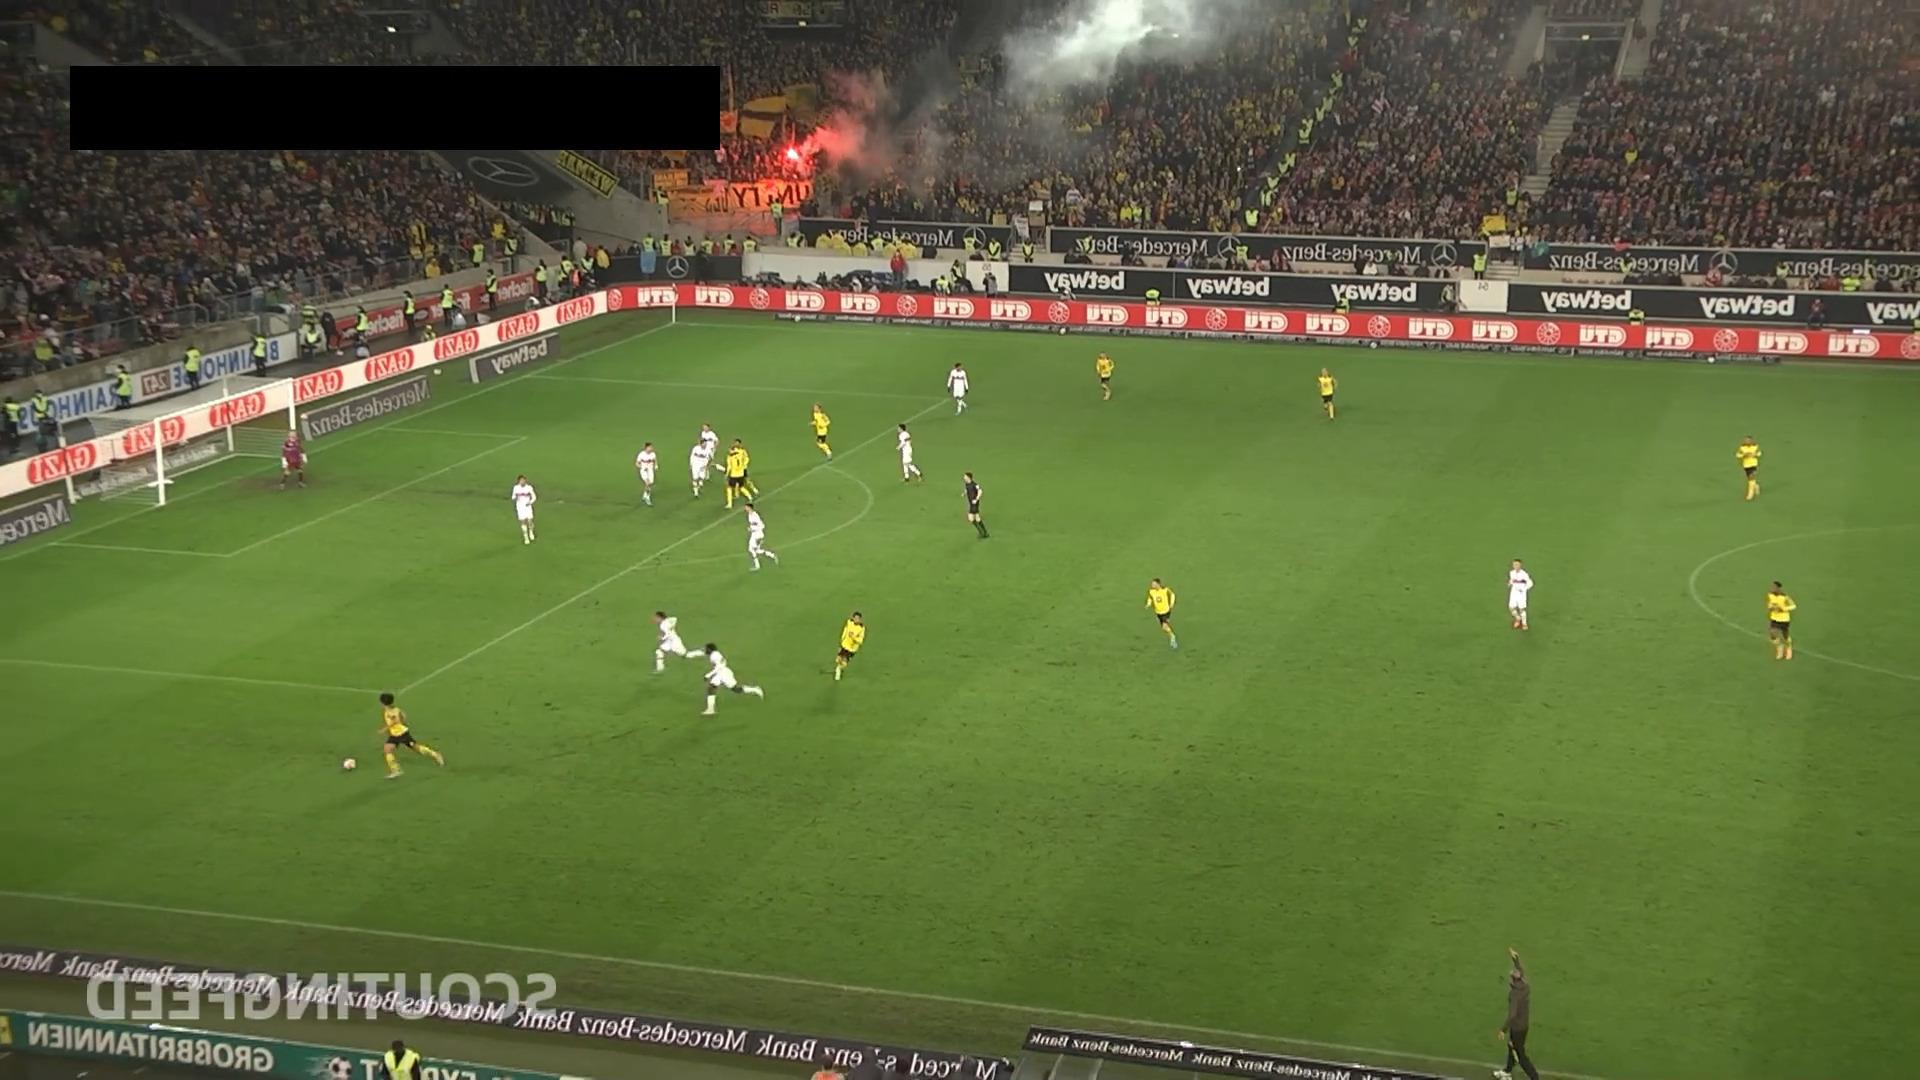ball: (343, 755, 359, 771)
keeper: (280, 430, 307, 490)
player: (376, 694, 443, 780), (700, 642, 764, 716), (651, 612, 705, 675), (1765, 579, 1796, 661), (1144, 576, 1177, 649), (745, 503, 779, 572), (832, 613, 867, 680), (1506, 557, 1534, 632), (895, 422, 925, 485), (724, 446, 753, 510), (510, 474, 536, 545), (1735, 434, 1762, 501), (732, 437, 759, 497), (807, 402, 833, 460), (688, 438, 713, 498), (635, 442, 658, 507), (945, 363, 971, 416), (700, 424, 727, 474), (1316, 367, 1337, 418), (1095, 349, 1115, 402)
referee: (961, 470, 988, 540)
